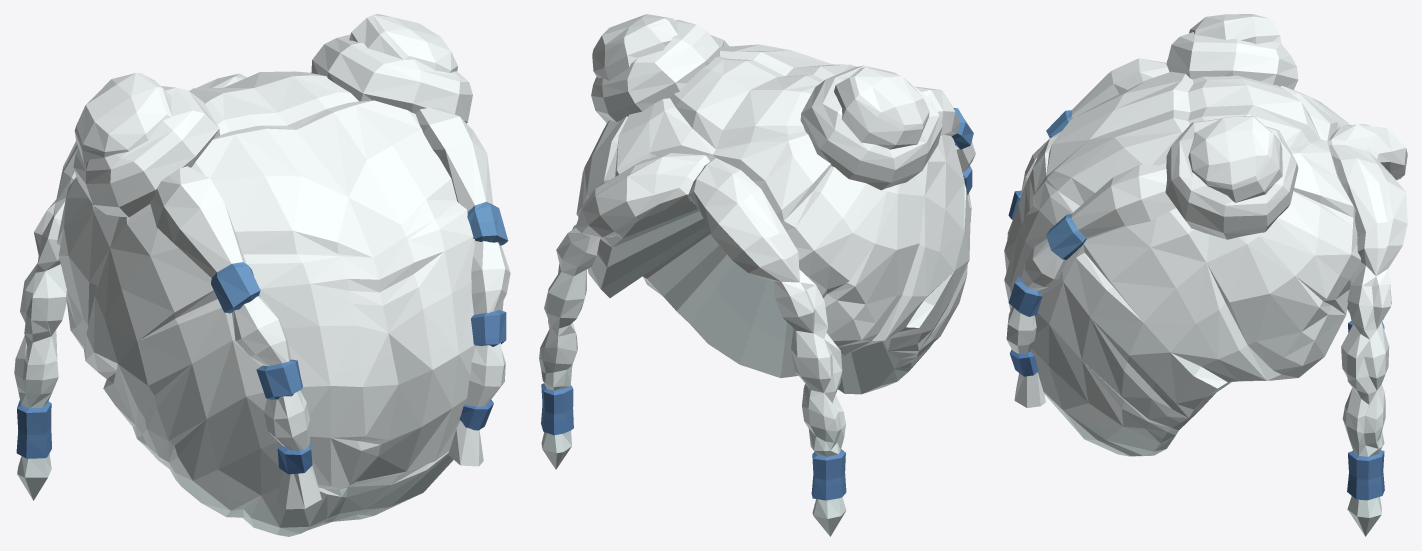
Rendered from CharSkyKid_Hair_AP08Braid_01.glb.
The picture shows the model from 3 angles, left to right: view 1: azimuth 30°, elevation 25°; view 2: azimuth 150°, elevation 25°; view 3: azimuth 270°, elevation 25°; orthographic projection. The views are drawn at different scales.
Visible parts, largest first — view 1: CharSkyKid_Hair_AP08Braid_01; view 2: CharSkyKid_Hair_AP08Braid_01; view 3: CharSkyKid_Hair_AP08Braid_01.
Part boxes in pixels (x1,y1,x2,y2): CharSkyKid_Hair_AP08Braid_01: [14, 14, 510, 536]; CharSkyKid_Hair_AP08Braid_01: [539, 14, 975, 536]; CharSkyKid_Hair_AP08Braid_01: [1004, 14, 1407, 536].
Size of the model in its own units: 2.57 by 3.09 by 2.8.
1 material, 1 textured.
